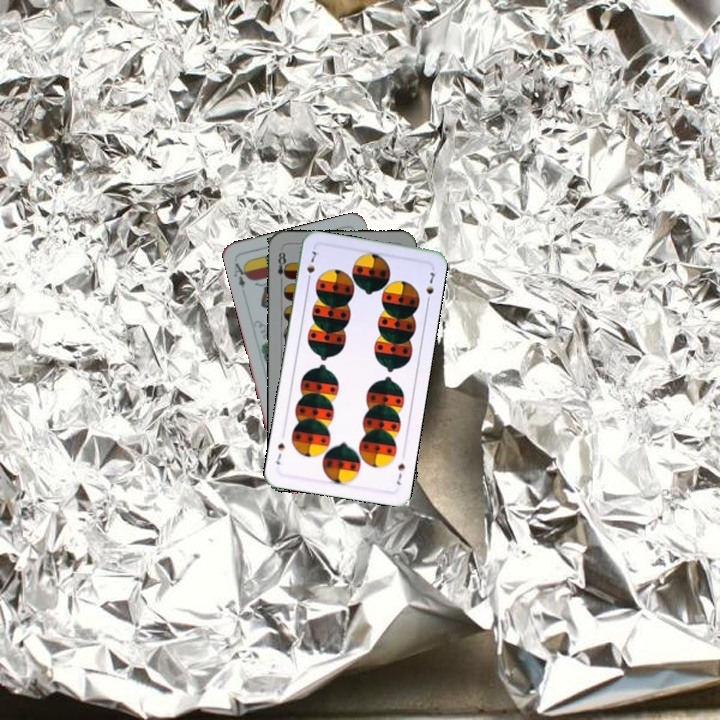E8: (274, 247, 291, 286)
EA: (230, 259, 251, 290)
S7: (303, 247, 321, 285), (392, 460, 408, 487)
